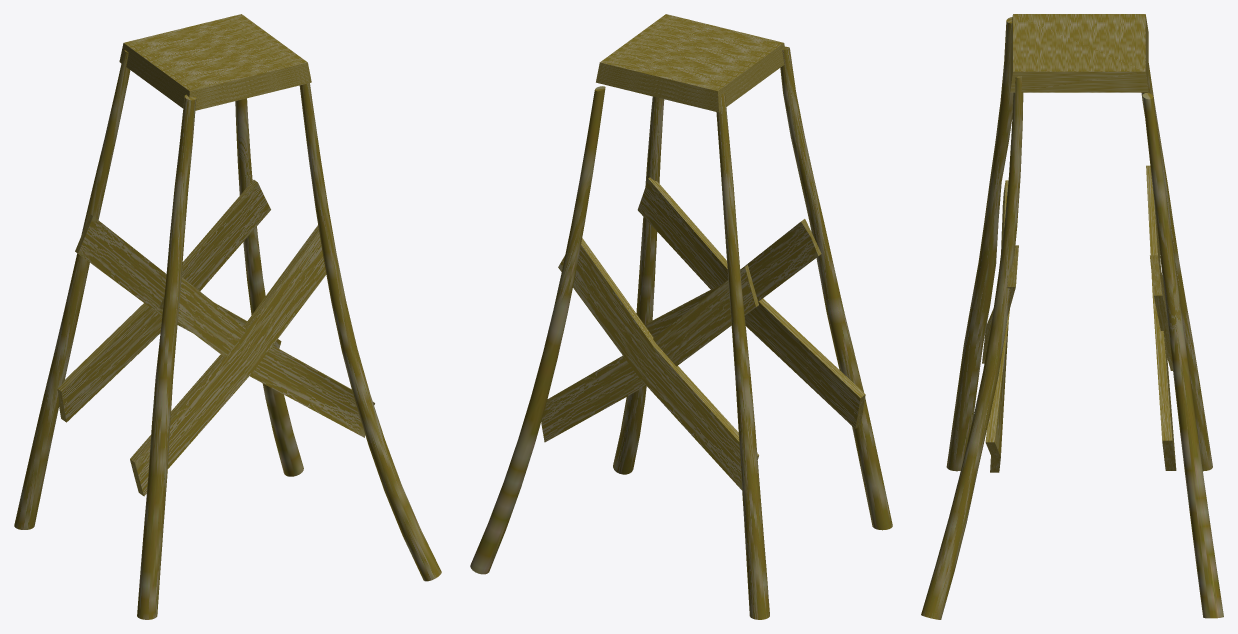
Rendered from Tower4.FBX.
3 renders of one model, left to right at view 1: azimuth 30°, elevation 25°; view 2: azimuth 150°, elevation 25°; view 3: azimuth 270°, elevation 25°, orthographic.
Visible parts, largest first — view 1: Box001; view 2: Box001; view 3: Box001.
Part boxes in pixels (left/top/right/bottom): Box001: left=14, top=14, right=441, bottom=619; Box001: left=470, top=14, right=892, bottom=619; Box001: left=921, top=14, right=1223, bottom=619.
Bounding box in the file's own units: 54.5 × 90.51 × 48.89.
